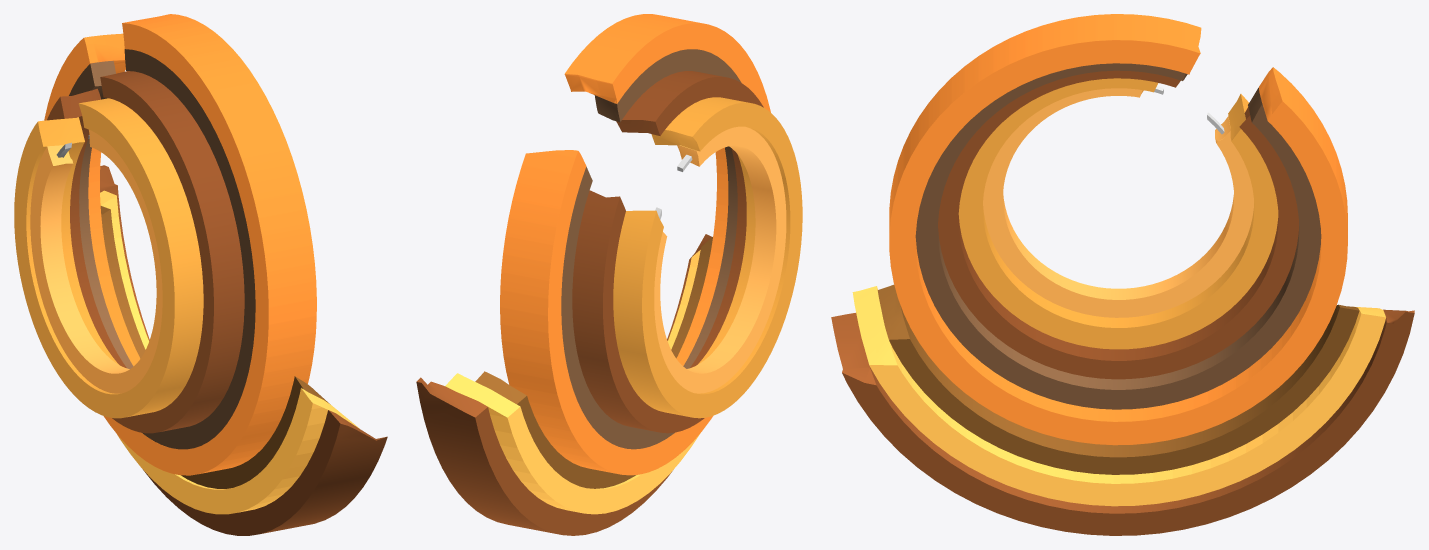
File: finish line.glb
3 renders of one model, left to right at view 1: azimuth 30°, elevation 25°; view 2: azimuth 150°, elevation 25°; view 3: azimuth 270°, elevation 25°, orthographic.
Parts seen in each view (by area): view 1: Cylinder.011, Cylinder.014, Cylinder.013, Cylinder.015, Cylinder.012, Cylinder.008, Cylinder.009, Cylinder.010; view 2: Cylinder.011, Cylinder.014, Cylinder.013, Cylinder.008, Cylinder.015, Cylinder.012, Cylinder.009, Cylinder.010; view 3: Cylinder.011, Cylinder.012, Cylinder.008, Cylinder.009, Cylinder.013, Cylinder.014, Cylinder.010, Cylinder.015.
Boxes of the visible parts, x1,y1,x2,y2 form: Cylinder.011: [44, 14, 316, 475]; Cylinder.014: [14, 98, 203, 418]; Cylinder.013: [47, 71, 244, 433]; Cylinder.015: [30, 129, 162, 393]; Cylinder.012: [69, 49, 255, 449]; Cylinder.008: [100, 165, 387, 535]; Cylinder.009: [100, 190, 359, 514]; Cylinder.010: [100, 206, 330, 488]; Cylinder.011: [500, 14, 770, 475]; Cylinder.014: [613, 97, 802, 418]; Cylinder.013: [572, 71, 763, 433]; Cylinder.008: [416, 234, 711, 535]; Cylinder.015: [654, 126, 786, 393]; Cylinder.012: [561, 49, 741, 449]; Cylinder.009: [445, 250, 700, 514]; Cylinder.010: [475, 237, 712, 488]; Cylinder.011: [889, 14, 1347, 445]; Cylinder.012: [915, 63, 1321, 409]; Cylinder.008: [831, 309, 1414, 535]; Cylinder.009: [852, 286, 1385, 506]; Cylinder.013: [938, 70, 1298, 379]; Cylinder.014: [958, 78, 1278, 349]; Cylinder.010: [877, 284, 1359, 474]; Cylinder.015: [983, 88, 1253, 317].
Size of the model in its own units: 31.23 by 87.55 by 95.59.
